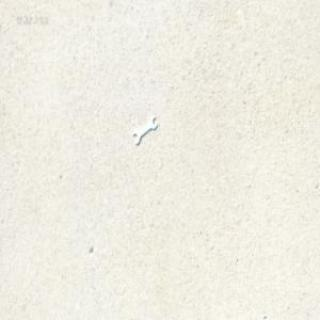Wrenchtrack_idkeyframe: (136, 114, 160, 144)
